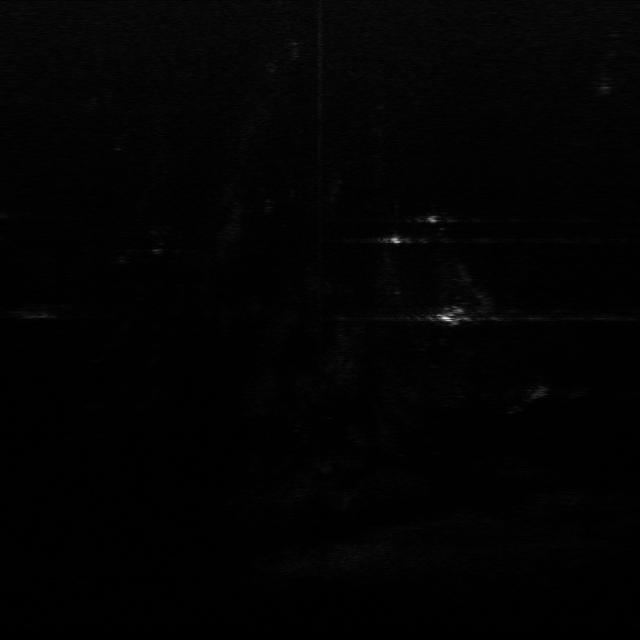rov: (436, 305, 476, 328)
